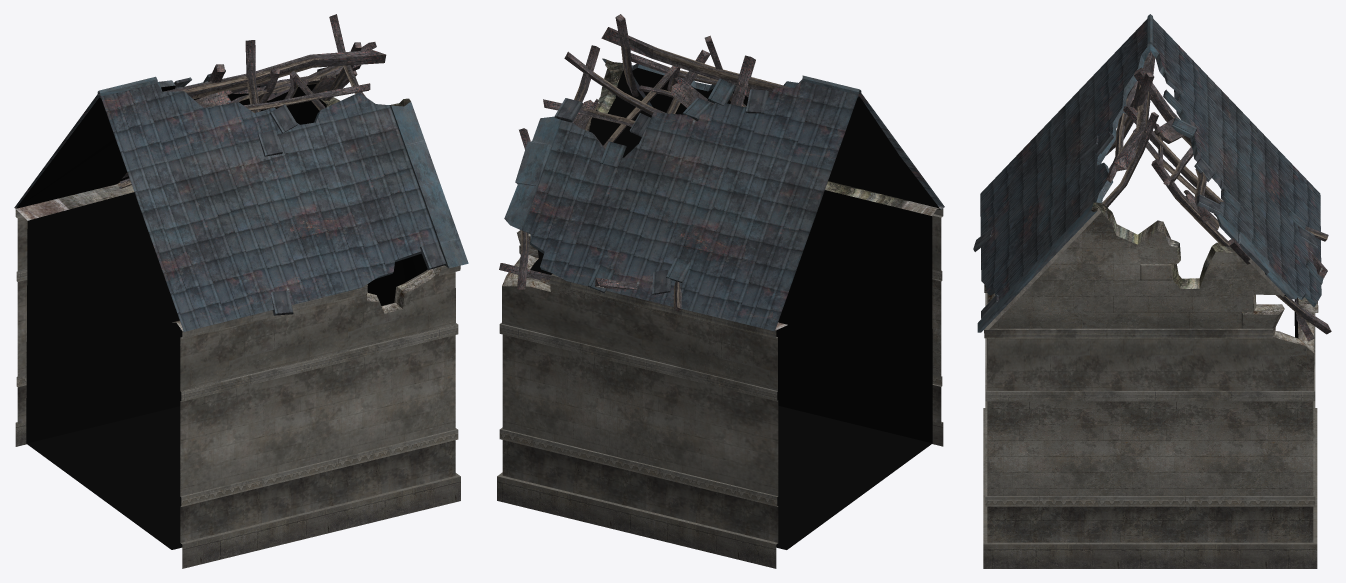
The model's file is bg_lut_lucastle_house07a_sm_ysi.FBX.
The picture shows the model from 3 angles, left to right: view 1: azimuth 30°, elevation 25°; view 2: azimuth 150°, elevation 25°; view 3: azimuth 270°, elevation 25°; orthographic projection.
Visible parts, largest first — view 1: bg_lut_lucastle_house07a_sm_ysi; view 2: bg_lut_lucastle_house07a_sm_ysi; view 3: bg_lut_lucastle_house07a_sm_ysi.
Part boxes in pixels (box(x1,y1,x2,y2)): bg_lut_lucastle_house07a_sm_ysi: box(14, 14, 468, 568); bg_lut_lucastle_house07a_sm_ysi: box(497, 14, 944, 568); bg_lut_lucastle_house07a_sm_ysi: box(973, 14, 1331, 568).
Bounding box in the file's own units: 511 × 711 × 530.
